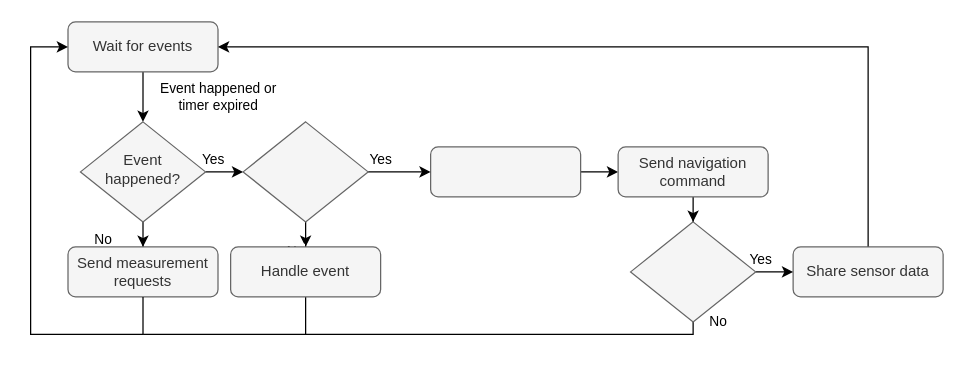
This 965x366 diagram has some shape labels left out. The shapes that lost their labels are listed below. From the top down, each one's centre as x and y in pixels, then its label:
pixel 305 171: Response received?
pixel 505 171: Compute sensor readings
pixel 692 271: Mapping process identified?
